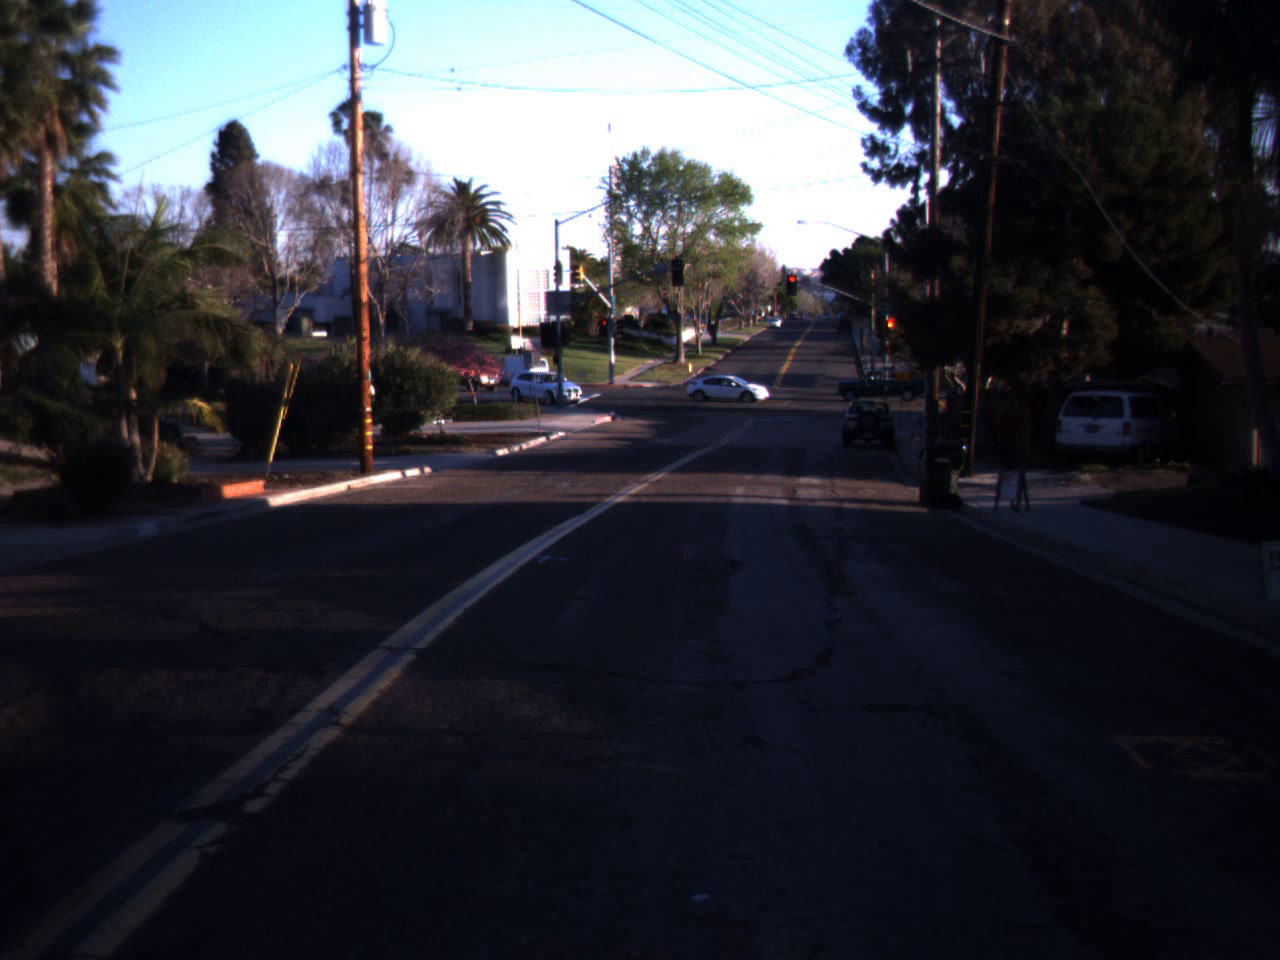stop: (882, 315, 900, 351), (785, 275, 800, 293)
